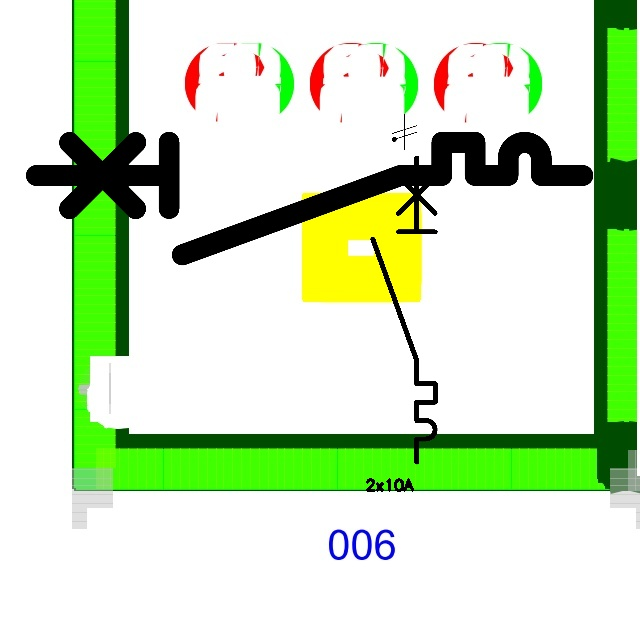interruptor_termomagnetico: (22, 128, 597, 269), (365, 150, 443, 469)
